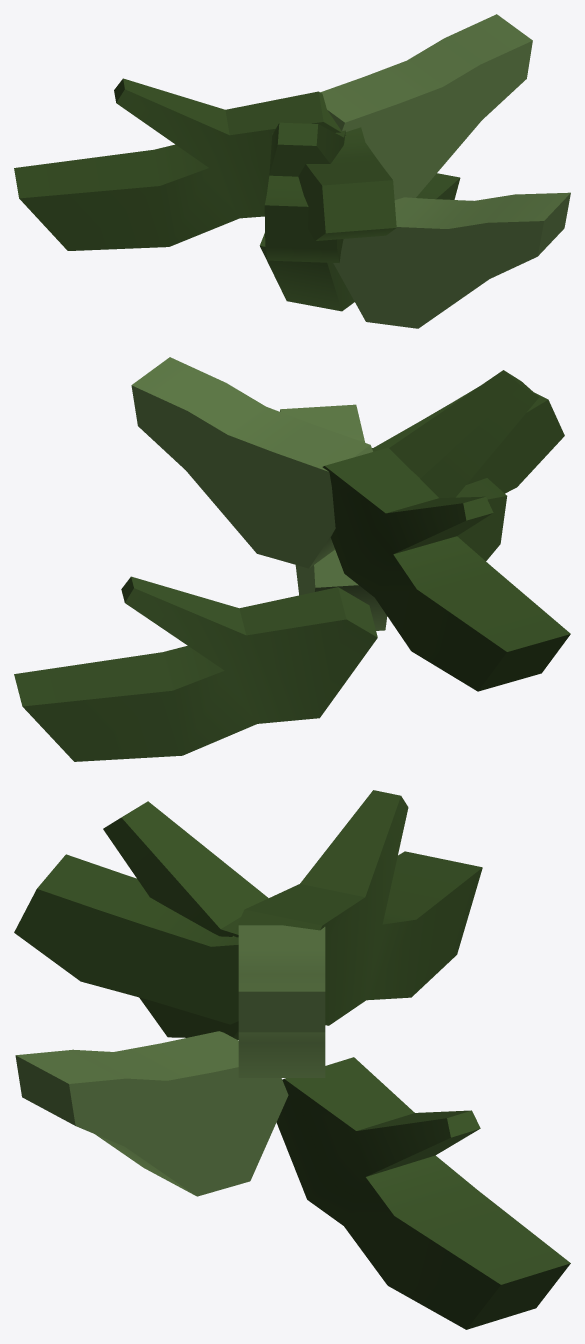
File: EverGreenBranch03.fbx
3 renders of one model, top to bottom at view 1: azimuth 30°, elevation 25°; view 2: azimuth 150°, elevation 25°; view 3: azimuth 270°, elevation 25°, orthographic. The views are drawn at different scales.
Parts seen in each view (by area): view 1: Evergreen03; view 2: Evergreen03; view 3: Evergreen03.
Part boxes in pixels (x1,y1,x2,y2): Evergreen03: [14, 14, 570, 328]; Evergreen03: [14, 357, 570, 761]; Evergreen03: [14, 790, 570, 1329].
Size of the model in its own units: 179 by 106 by 150.
